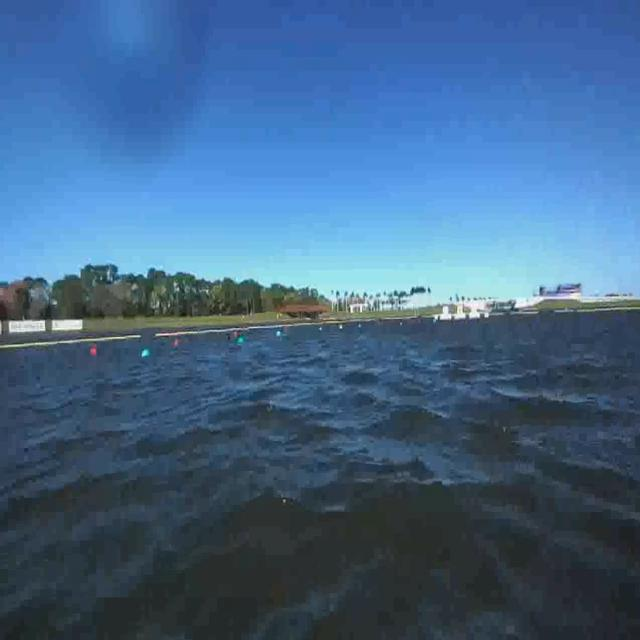green-buoy: (138, 350, 154, 368)
red-buoy: (92, 347, 98, 356)
